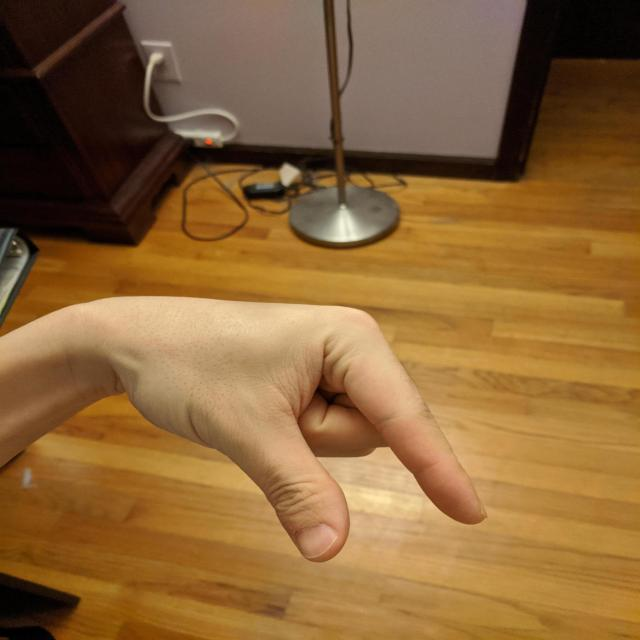Q: (104, 291, 494, 569)
